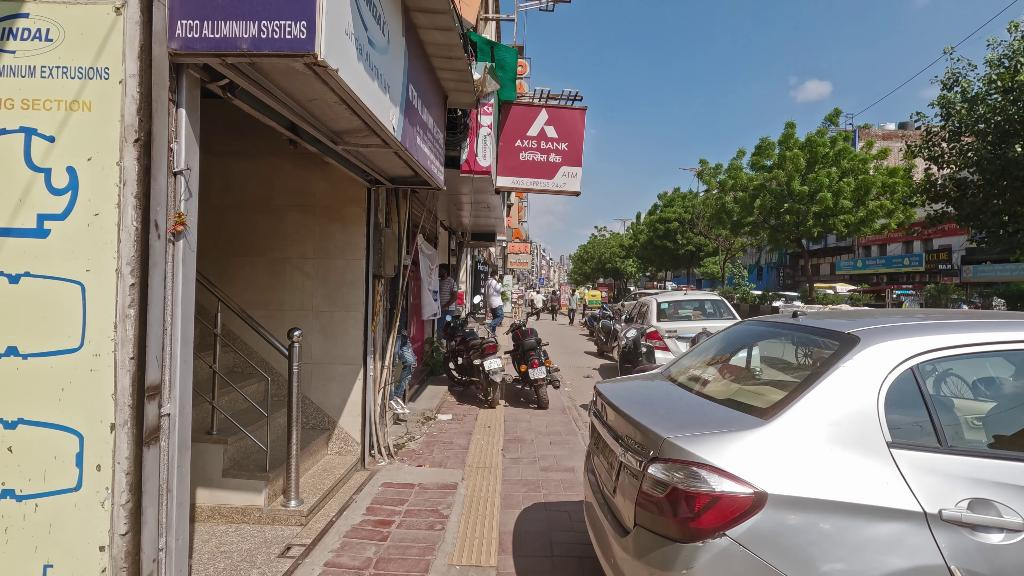garbage: (432, 411, 451, 421)
